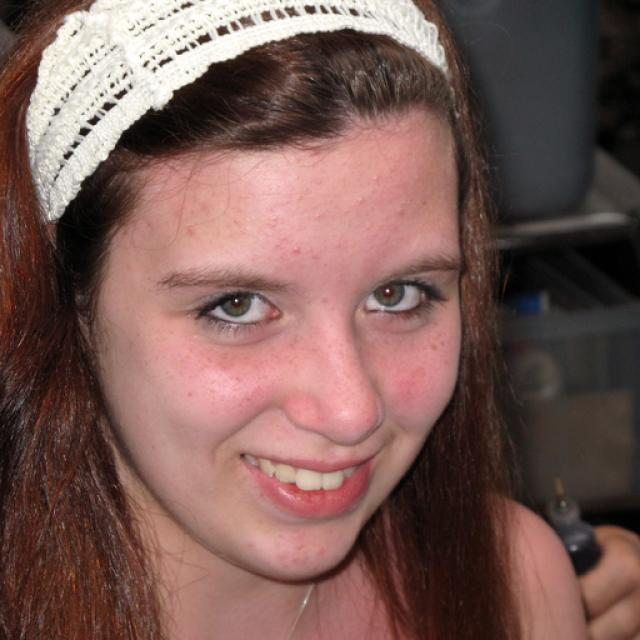Acne: (393, 201, 407, 220), (352, 193, 369, 208), (371, 171, 386, 187), (290, 245, 305, 260), (267, 214, 284, 227)
